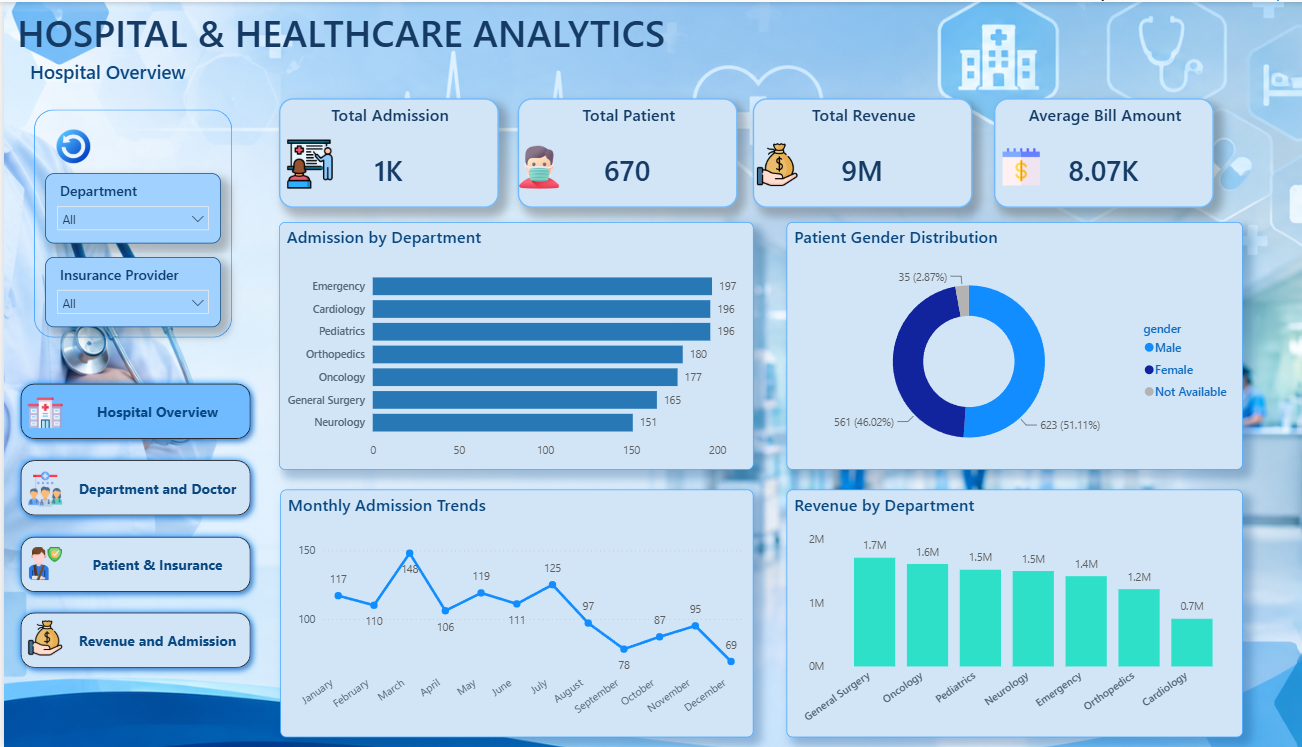

The dashboard page shown, as its layout file describes it:
{"tool":"powerbi","page":{"name":"Hospital Overview","canvas":[1480,850],"ordinal":0},"visuals":[{"type":"shape","box":[34.3,122.9,225.7,260],"z":0},{"type":"textbox","box":[9.5,0,800,85.7],"z":1000},{"type":"textbox","box":[0,60.3,236.4,49.2],"z":2000},{"type":"cardVisual","title":"Total Admission","fields":{"Data":["hospital_overview admission.Total Admissions"]},"box":[313,110.1,250,125],"z":3000},{"type":"cardVisual","title":"Total Patient","fields":{"Data":["hospital_overview admission.Total Patients"]},"box":[585.5,110.1,250,125],"z":4000},{"type":"cardVisual","title":"Total Revenue","fields":{"Data":["hospital_overview admission.Total Revenue"]},"box":[853.6,110.1,250,125],"z":5000},{"type":"cardVisual","title":"Average Bill Amount","fields":{"Data":["hospital_overview admission.Average Bill"]},"box":[1127.5,110.1,250,125],"z":6000},{"type":"clusteredBarChart","title":"Admission by Department","fields":{"Category":["hospital_overview admission_by_dept.department_name"],"Y":["Sum(hospital_overview admission_by_dept.total_admission)"]},"box":[313,250.7,540.6,282.6],"z":7000},{"type":"donutChart","title":"Patient Gender Distribution","fields":{"Category":["hospital_overview gender_distribution.gender"],"Y":["Sum(hospital_overview gender_distribution.total_patients)"]},"box":[891.3,250.7,520,282],"z":8000},{"type":"lineChart","title":"Monthly Admission Trends","fields":{"Category":["hospital_overview monthly_admission_trends.Month_Name"],"Y":["Sum(hospital_overview monthly_admission_trends.Total_Admissions)"]},"box":[314.5,555.1,539.1,282],"z":9000},{"type":"clusteredColumnChart","title":"Revenue by Department","fields":{"Category":["hospital_overview revenue_by_depart.department_name"],"Y":["Sum(hospital_overview revenue_by_depart.total_revenue)"]},"box":[891.3,555.1,520,282.6],"z":10000},{"type":"pageNavigator","box":[10,425.7,280,345.7],"z":11000},{"type":"image","box":[313.6,156.1,69.7,56.1],"z":12000},{"type":"image","box":[584.8,163.6,48.5,48.5],"z":13000},{"type":"image","box":[854.5,160.6,53,48.5],"z":14000},{"type":"image","box":[1127.3,166.7,65.2,42.4],"z":15000},{"type":"slicer","fields":{"Values":["hospital_overview admission.dept"]},"box":[47.1,195.7,200,80],"z":16000},{"type":"slicer","fields":{"Values":["hospital_overview patient.insurance"]},"box":[47.1,290,200,80],"z":17000},{"type":"image","box":[27.1,440,40,55.7],"z":18000},{"type":"image","box":[27.1,532.9,40,44.3],"z":19000},{"type":"image","box":[27.1,617.1,40,47.1],"z":20000},{"type":"image","box":[27.1,695.7,40,58.6],"z":21000},{"type":"image","box":[40,145.7,78.6,38.6],"z":22000}]}

Visuals, with their boxes in screenshot pixels (x1, y1, x2, y2), scaled from the page's 1480x850 canvas onto the 1302x747 screenshot:
shape: 30 108 229 337
textbox: 8 0 712 75
textbox: 0 53 208 96
"Total Admission" cardVisual: 275 97 495 207
"Total Patient" cardVisual: 515 97 735 207
"Total Revenue" cardVisual: 751 97 971 207
"Average Bill Amount" cardVisual: 992 97 1212 207
"Admission by Department" clusteredBarChart: 275 220 751 469
"Patient Gender Distribution" donutChart: 784 220 1242 468
"Monthly Admission Trends" lineChart: 277 488 751 736
"Revenue by Department" clusteredColumnChart: 784 488 1242 736
pageNavigator: 9 374 255 678
image: 276 137 337 186
image: 514 144 557 186
image: 752 141 798 184
image: 992 146 1049 184
slicer - hospital_overview admission.dept: 41 172 217 242
slicer - hospital_overview patient.insurance: 41 255 217 325
image: 24 387 59 436
image: 24 468 59 507
image: 24 542 59 584
image: 24 611 59 663
image: 35 128 104 162
